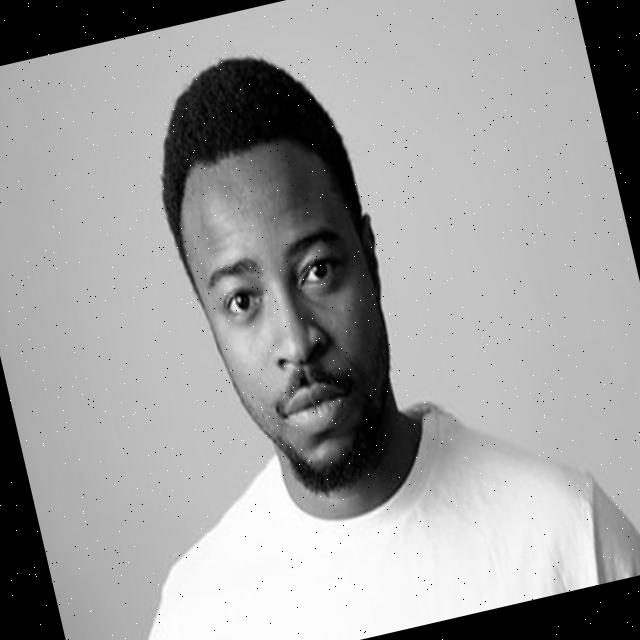Neutral: (164, 130, 418, 510)
